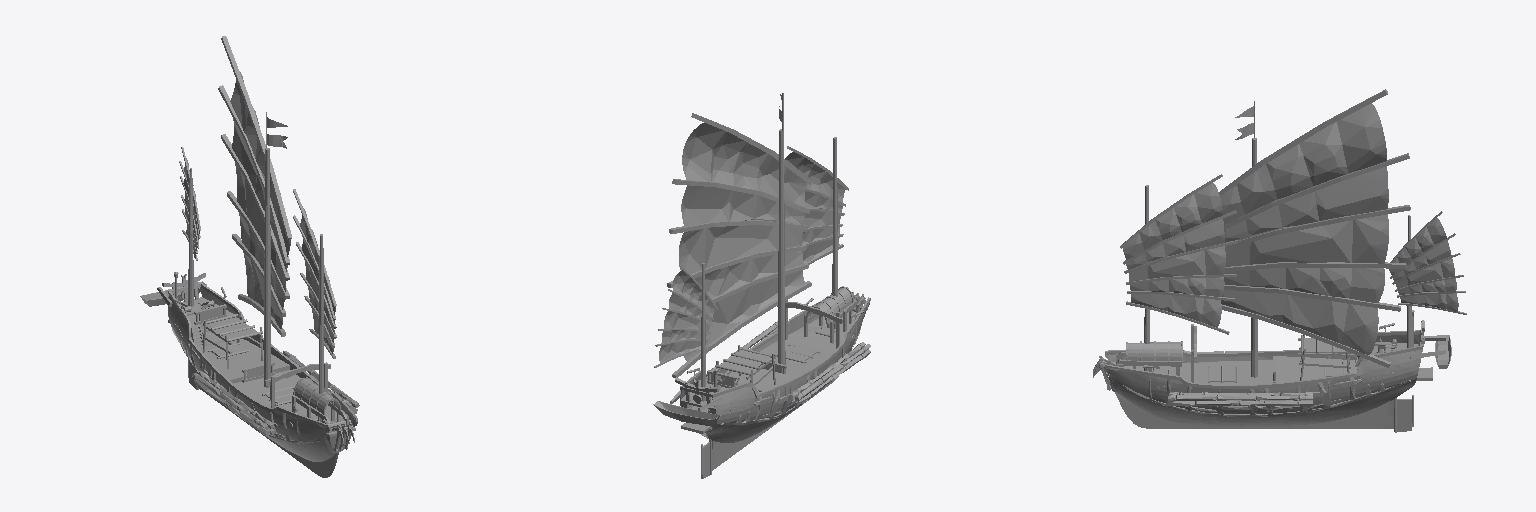
The model's file is boat.obj.
3 renders of one model, left to right at view 1: azimuth 30°, elevation 25°; view 2: azimuth 150°, elevation 25°; view 3: azimuth 270°, elevation 25°, orthographic.
Parts seen in each view (by area): view 1: MED-BOAT; view 2: MED-BOAT; view 3: MED-BOAT.
Boxes of the visible parts, x1,y1,x2,y2 form: MED-BOAT: [140, 36, 359, 477]; MED-BOAT: [653, 93, 870, 478]; MED-BOAT: [1093, 89, 1466, 432].
Size of the model in its own units: 1483 by 5167 by 4965.